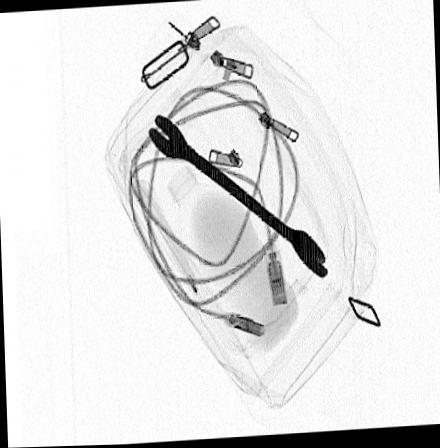Wrench: (146, 114, 327, 280)
